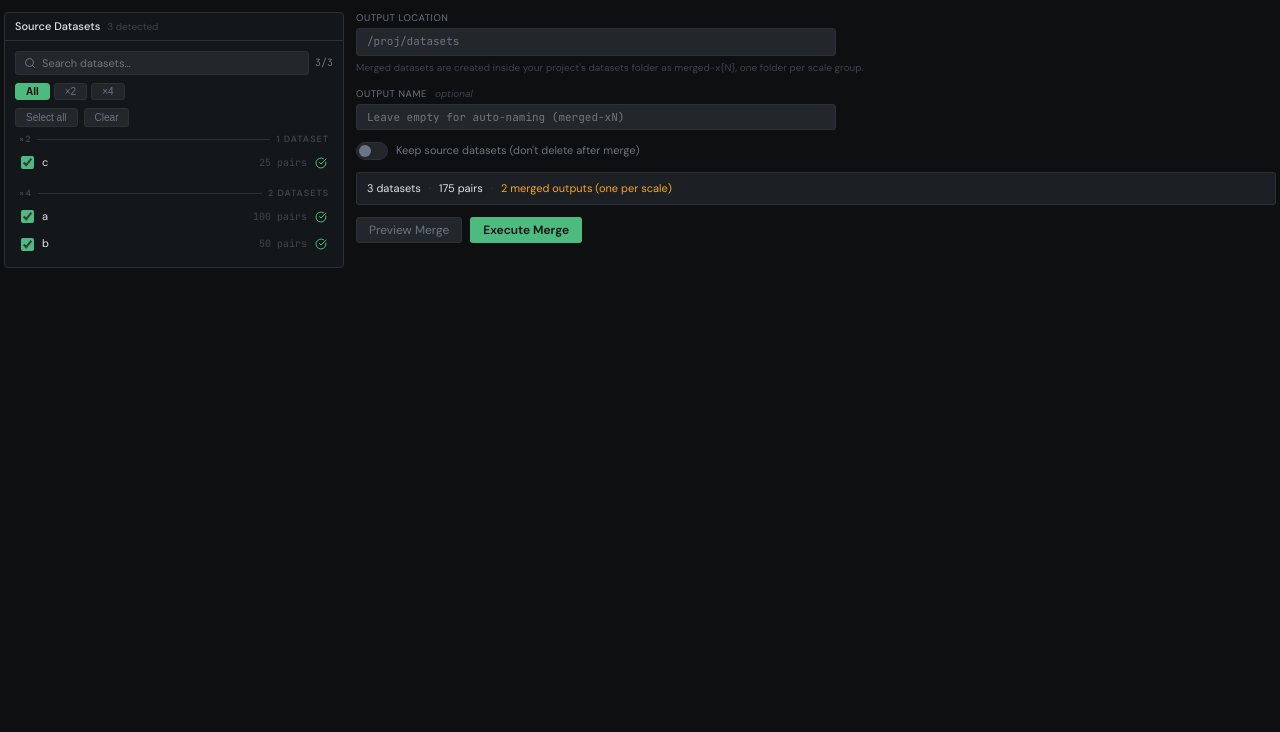
it: ScreenMergeDatasets › groups datasets by scale in the merge preview
Expected: the text "a" is shown, left=42, top=209, right=48, bottom=223
Click the button "Preview Merge": (409, 230) left=356, top=217, right=462, bottom=243
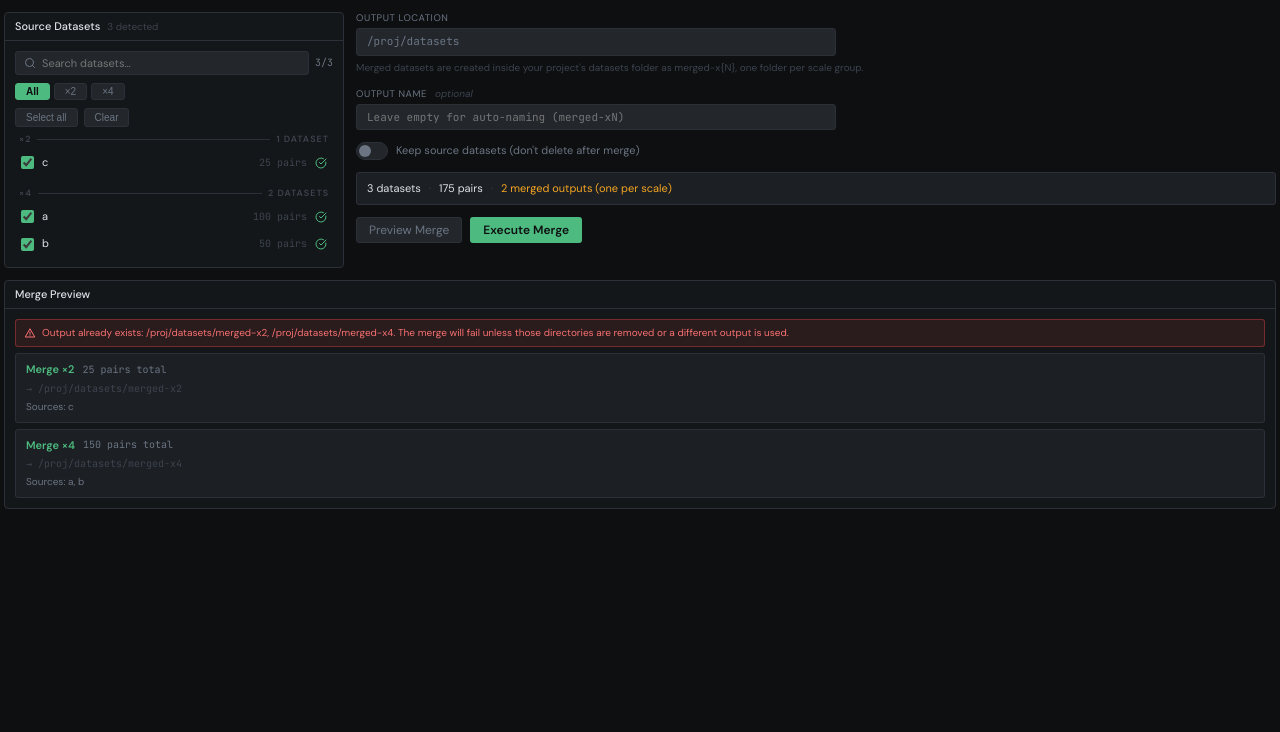
Expected: the text "Merge ×4" is shown, left=26, top=438, right=75, bottom=453
Expected: the text "150 pairs total" is shown, left=83, top=438, right=173, bottom=452
Expected: the text "Merge ×2" is shown, left=26, top=362, right=74, bottom=378
